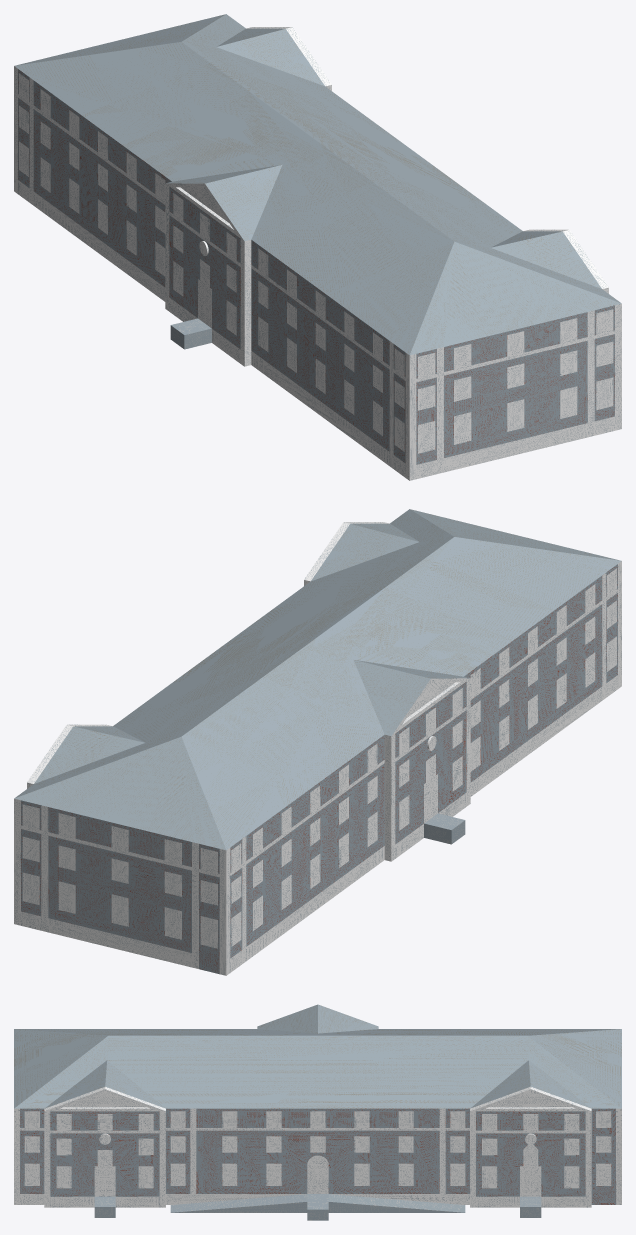
File: Levermore Hall textured.fbx
3 views of the same model, one above another, from view 1: azimuth 30°, elevation 25°; view 2: azimuth 150°, elevation 25°; view 3: azimuth 270°, elevation 25° (orthographic). The views are drawn at different scales.
Visible parts, largest first — view 1: Model; view 2: Model; view 3: Model.
Boxes of the visible parts, box(x1,y1,x2,y2) form: Model: box(14, 14, 621, 480); Model: box(14, 509, 621, 975); Model: box(14, 1004, 621, 1220).
Size of the model in its own units: 1008 by 564 by 2400.
